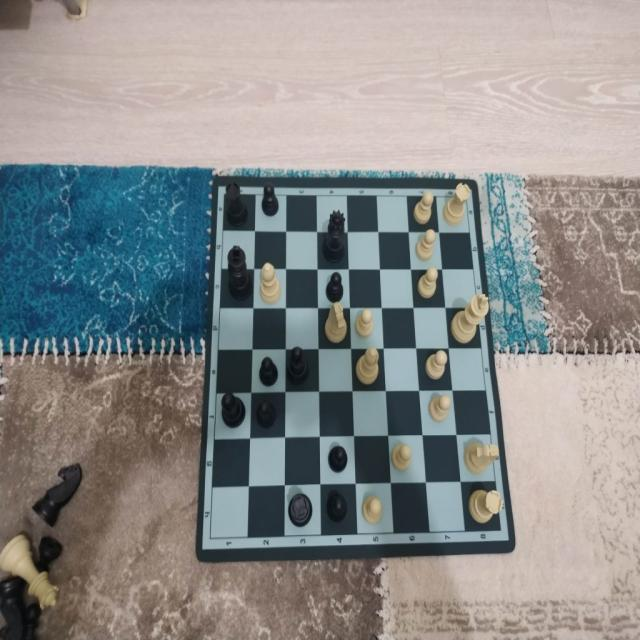chess-table-corners: (198, 522, 222, 555), (492, 520, 512, 548), (213, 178, 225, 200)
